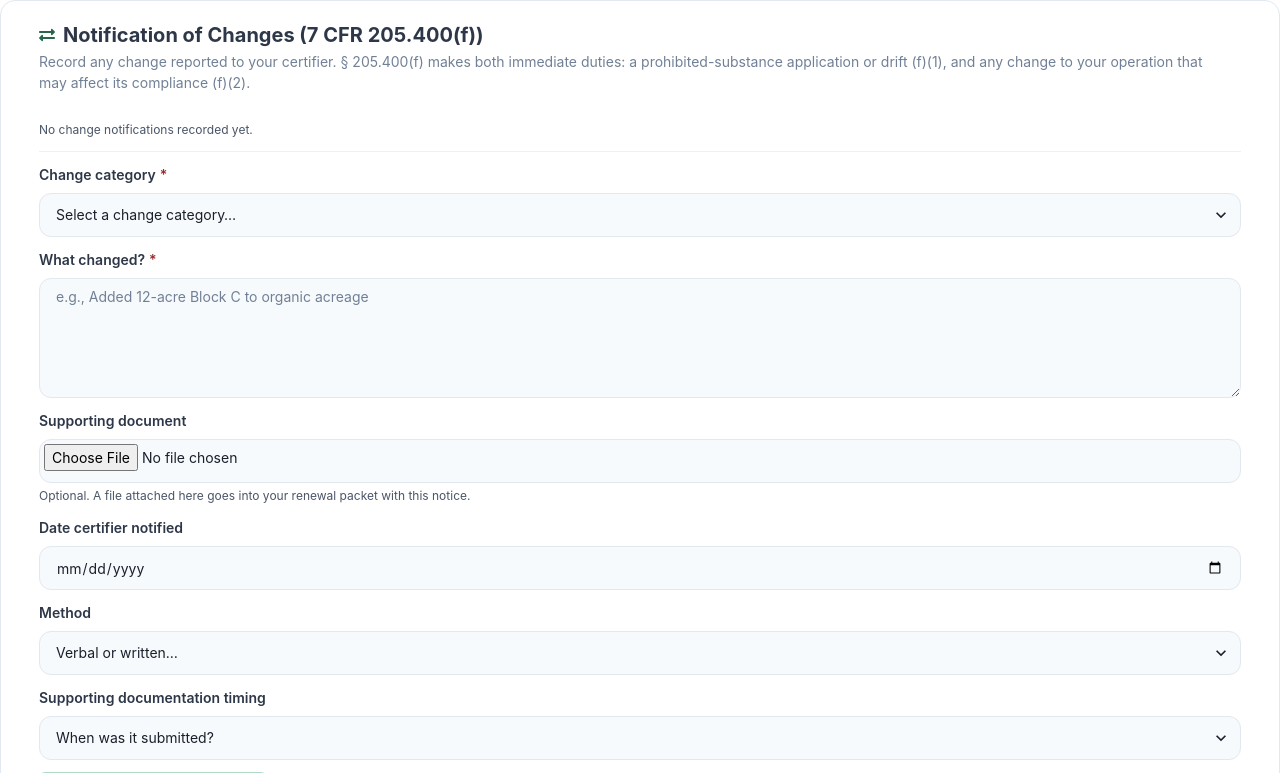
Test: field removal notice › asks why only for a removal, and holds the button until it is given
Select "Added acreage / new field / product line / facility" in the dropdown labelled "Change category*": coordinates (640, 215) [39, 193, 1241, 237]
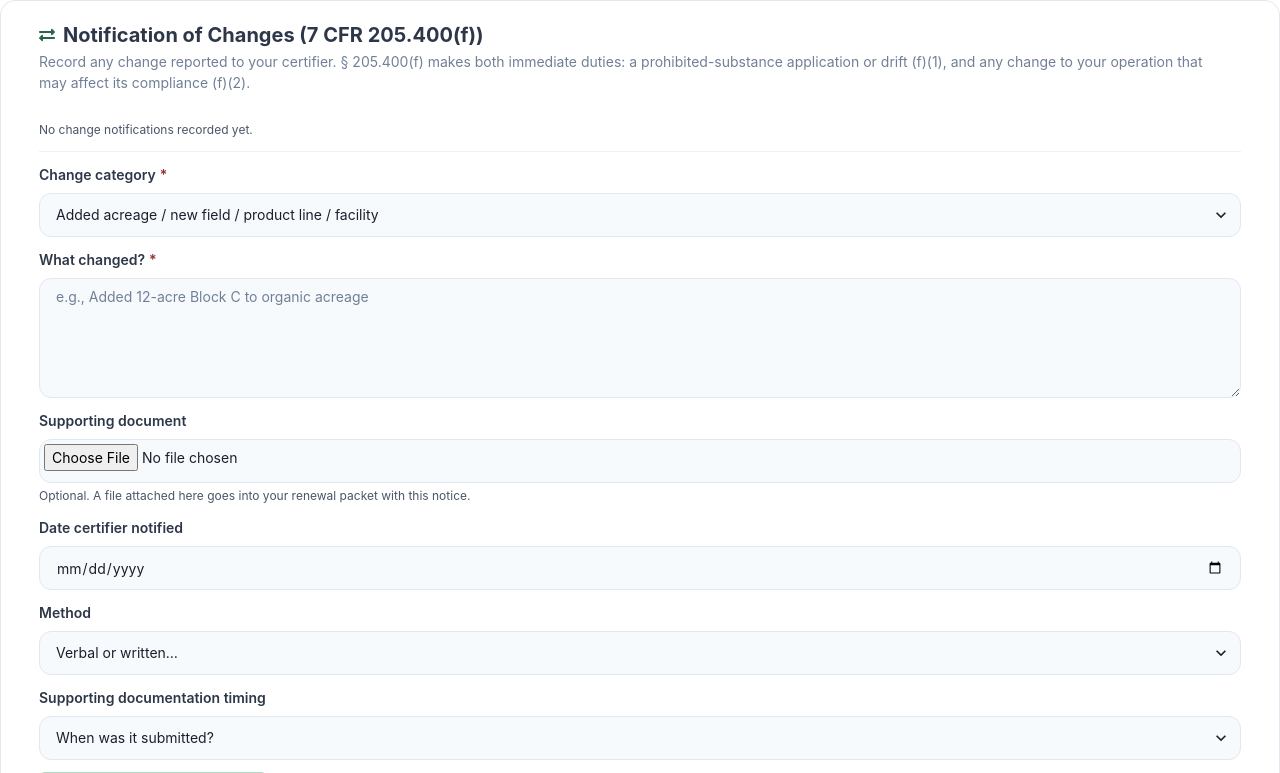
Check: the text "Why did this acreage leave organic production?" is not shown
Select "Removed a field" in the dropdown labelled "Change category*": coordinates (640, 215) [39, 193, 1241, 237]
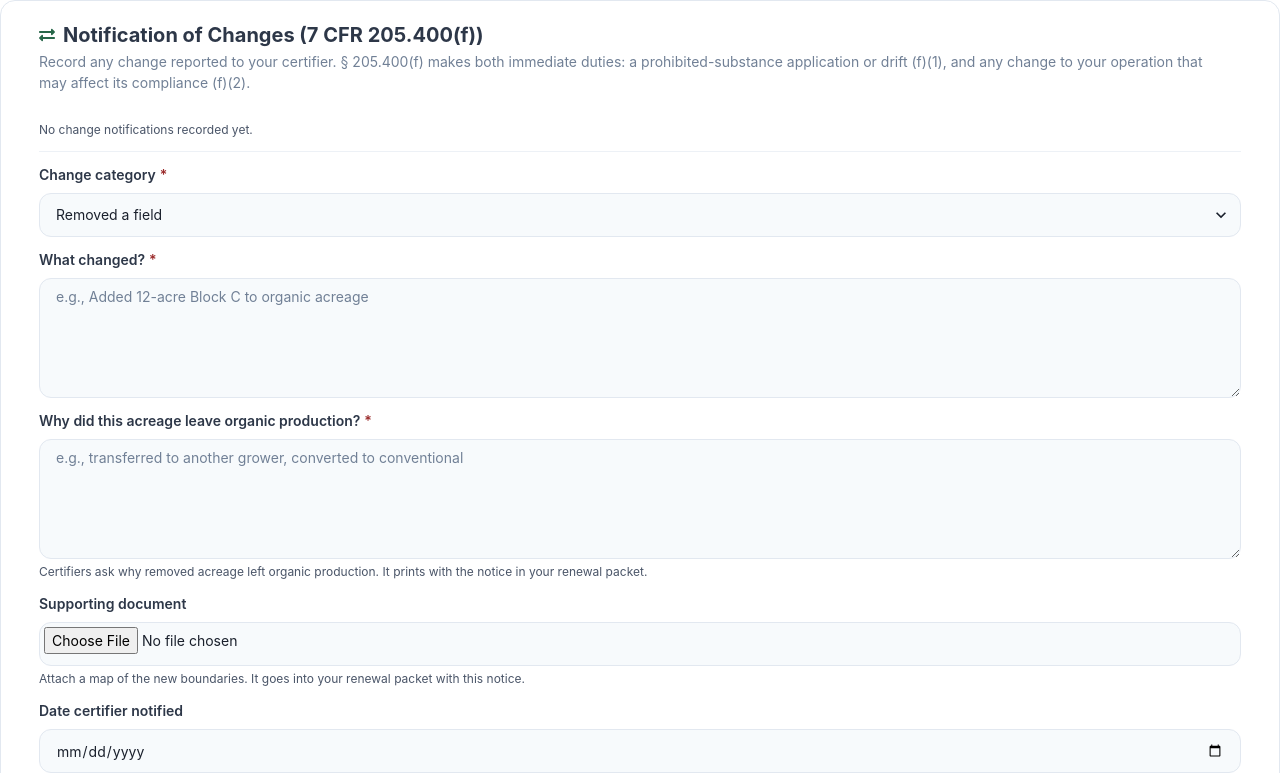
In the text box labelled "What changed?*": coordinates (640, 338) [39, 278, 1241, 398], type "5 acres of Block C left organic production."
(page scrolled)
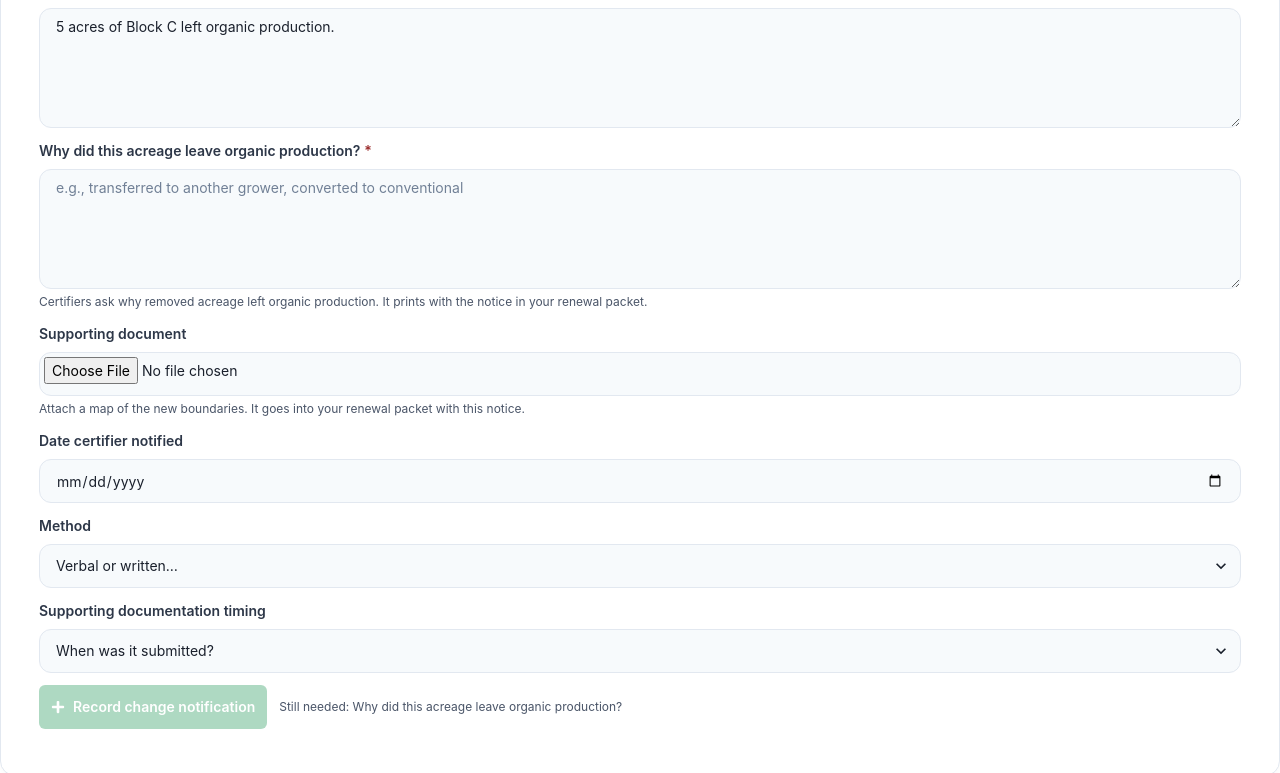
Check: the button "Record change notification" is disabled, box [39, 685, 267, 729]
Check: the text "Why did this acreage leave organic production?*" is shown, box [39, 142, 372, 159]
Check: the text "Still needed: Why did this acreage leave organic production?" is shown, box [279, 698, 622, 716]
